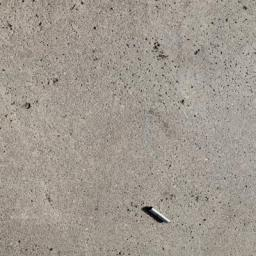FOD: (141, 203, 173, 228)
